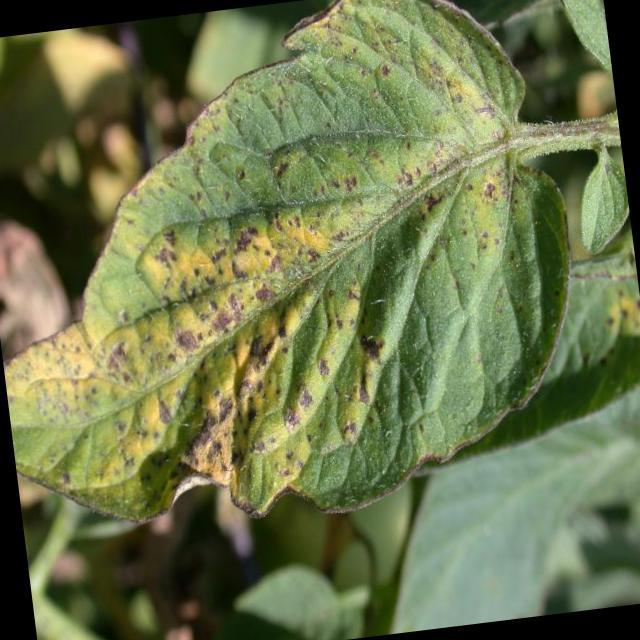Tomato leaf bacterial spot: (0, 4, 604, 557)
